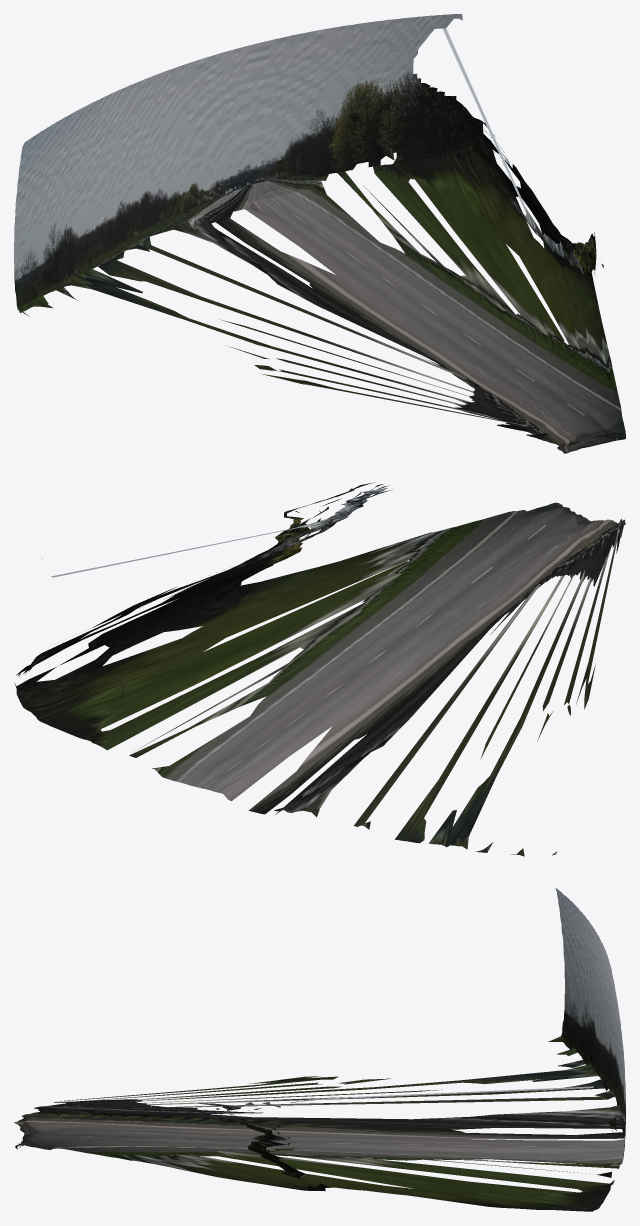
3 renders of one model, top to bottom at view 1: azimuth 30°, elevation 25°; view 2: azimuth 150°, elevation 25°; view 3: azimuth 270°, elevation 25°, orthographic. The views are drawn at different scales.
Visible parts, largest first — view 1: defaultobject; view 2: defaultobject; view 3: defaultobject.
Part boxes in pixels (x1,y1,x2,y2): defaultobject: (14, 14, 625, 453); defaultobject: (14, 482, 625, 856); defaultobject: (14, 888, 625, 1211).
Size of the model in its own units: 36.34 by 13.29 by 44.79.
Materials: 1 (1 with a texture image).
